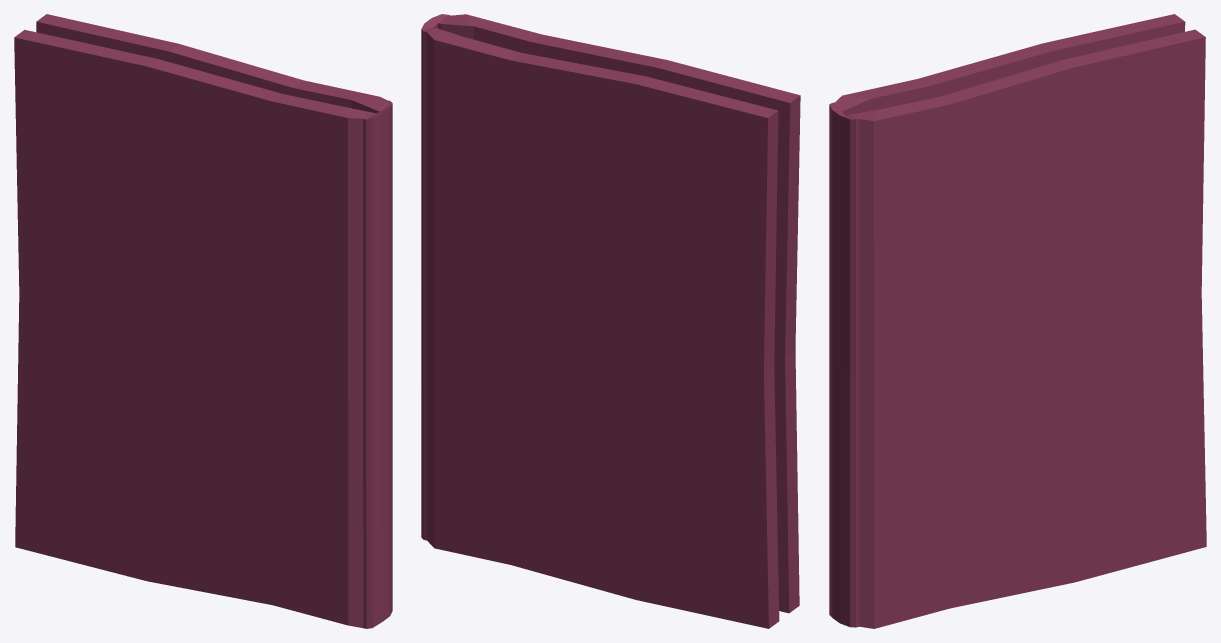
File: Book_Closed.fbx
3 renders of one model, left to right at view 1: azimuth 30°, elevation 25°; view 2: azimuth 210°, elevation 25°; view 3: azimuth 270°, elevation 25°, orthographic.
Visible parts, largest first — view 1: BookClosed.047; view 2: BookClosed.047; view 3: BookClosed.047.
Boxes of the visible parts, x1,y1,x2,y2 form: BookClosed.047: [14, 14, 392, 628]; BookClosed.047: [421, 14, 800, 628]; BookClosed.047: [829, 14, 1206, 628].
Size of the model in its own units: 21.37 by 48.53 by 32.2.
